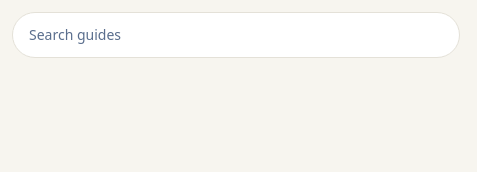
Test: ResourceSearch with expanded fields › matches article excerpt
Type "direction" into the search field named "Search Resource Center" at [236, 35], box [12,12,460,58]
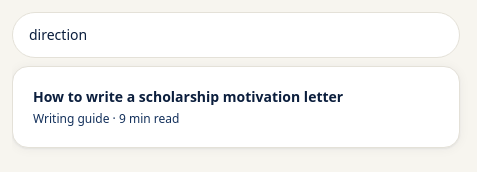
Expected: the link "motivation letter" is shown, [33,87,343,127]
